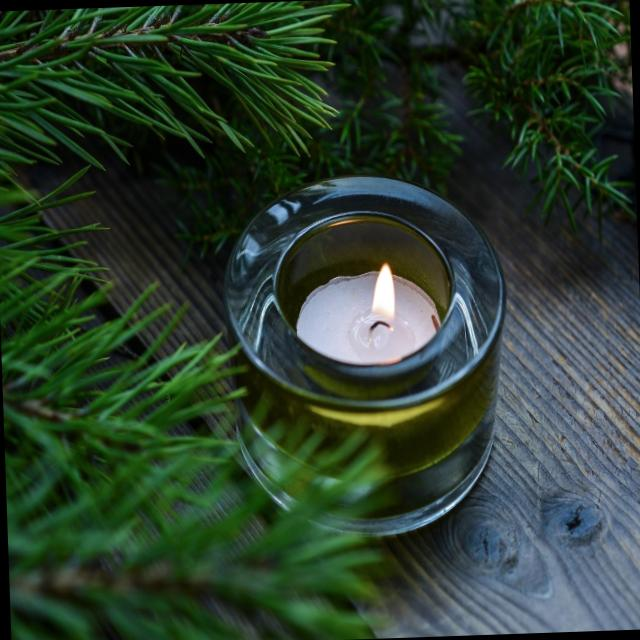Fire_Save: (218, 168, 514, 540), (292, 258, 443, 369)
